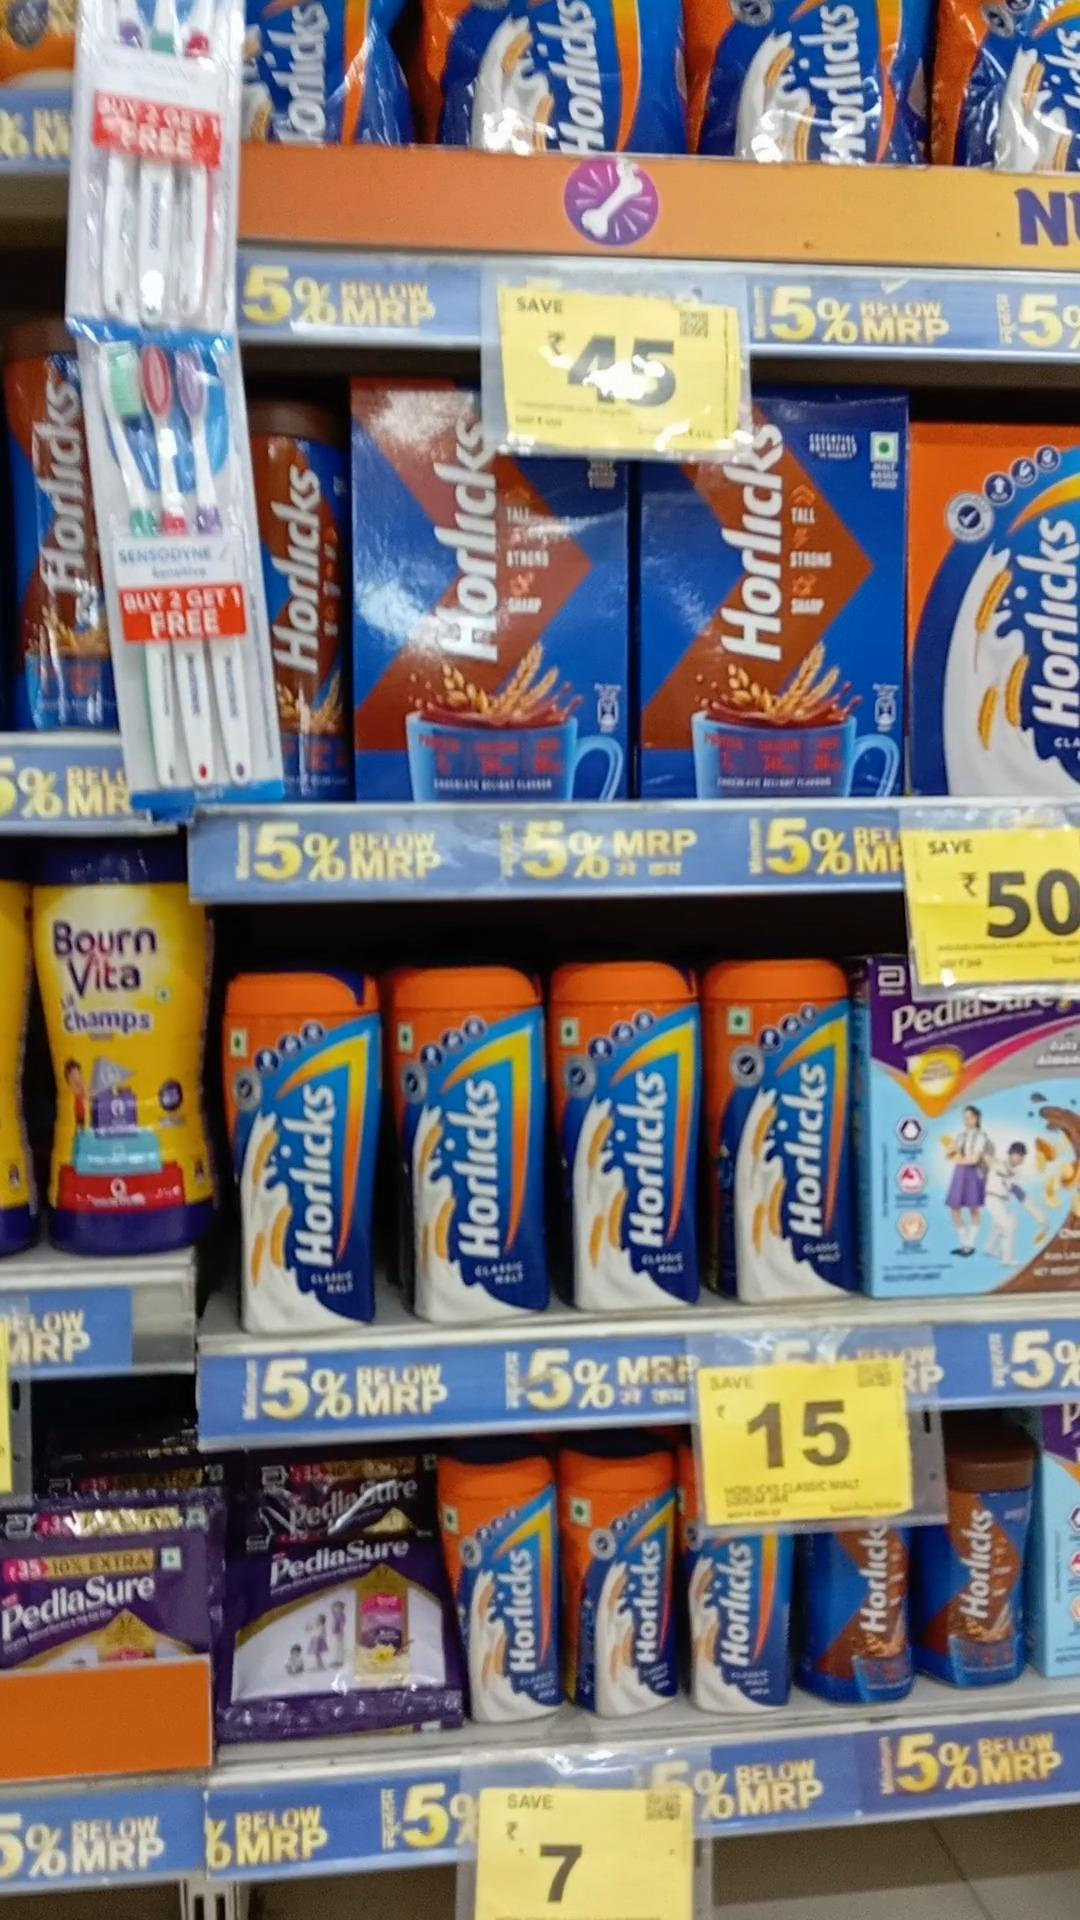BOURN_VITA_CHAMPS_500_G_JAR: (40, 847, 195, 1263)
HORLICK_CHOCOLATE_1_KG_JAR: (0, 302, 107, 736), (248, 397, 344, 803)
HORLICK_CHOCOLATE_1_KG_PACK: (352, 377, 624, 806), (645, 398, 902, 796)
HORLICK_CHOCOLATE_200_G_JAR: (931, 1448, 1035, 1685)
HORLICK_CLASSIC_MALT_200_G_JAR: (562, 1447, 676, 1718), (448, 1456, 562, 1724), (692, 1519, 798, 1724)
HORLICK_CLASSIC_MALT_500_G_JAR: (220, 972, 367, 1335), (551, 959, 699, 1305), (400, 969, 543, 1324), (713, 952, 853, 1305)
PEDIASURE_7_PLUS_CHOCOLATE_400_G_PACK: (873, 973, 1080, 1304)
